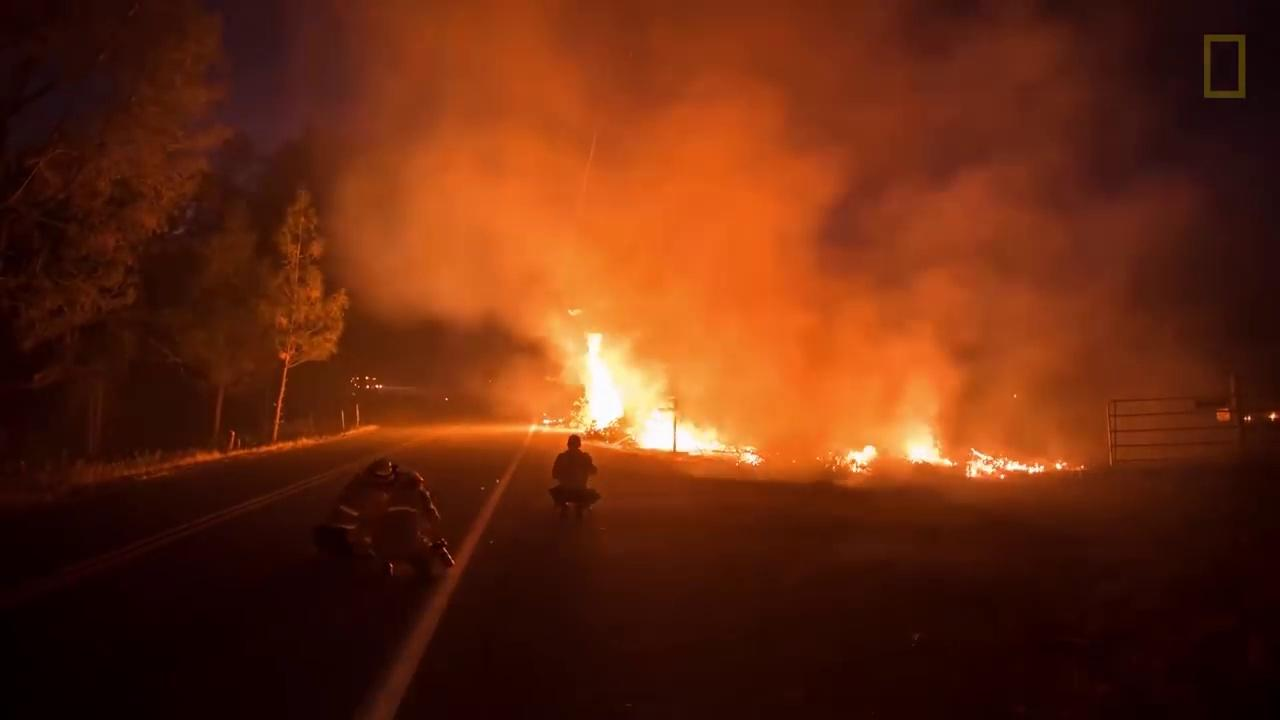Fire: (559, 314, 766, 467), (888, 417, 954, 467), (964, 449, 1044, 485), (831, 442, 875, 469)
